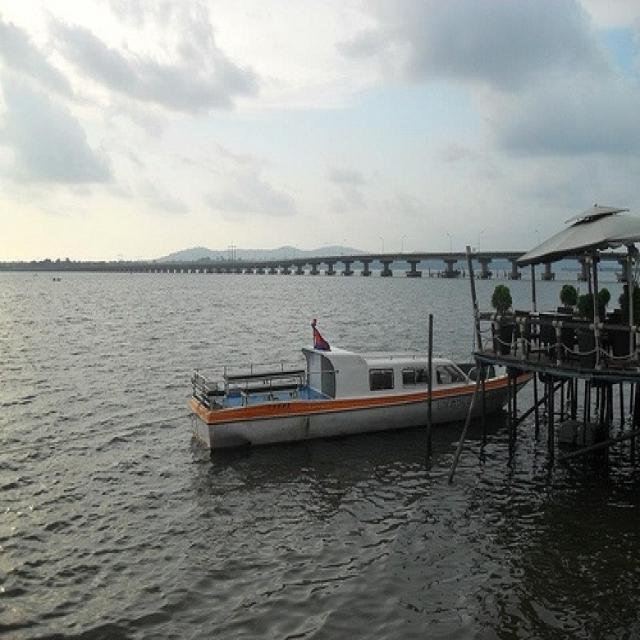boat: (190, 344, 545, 455)
